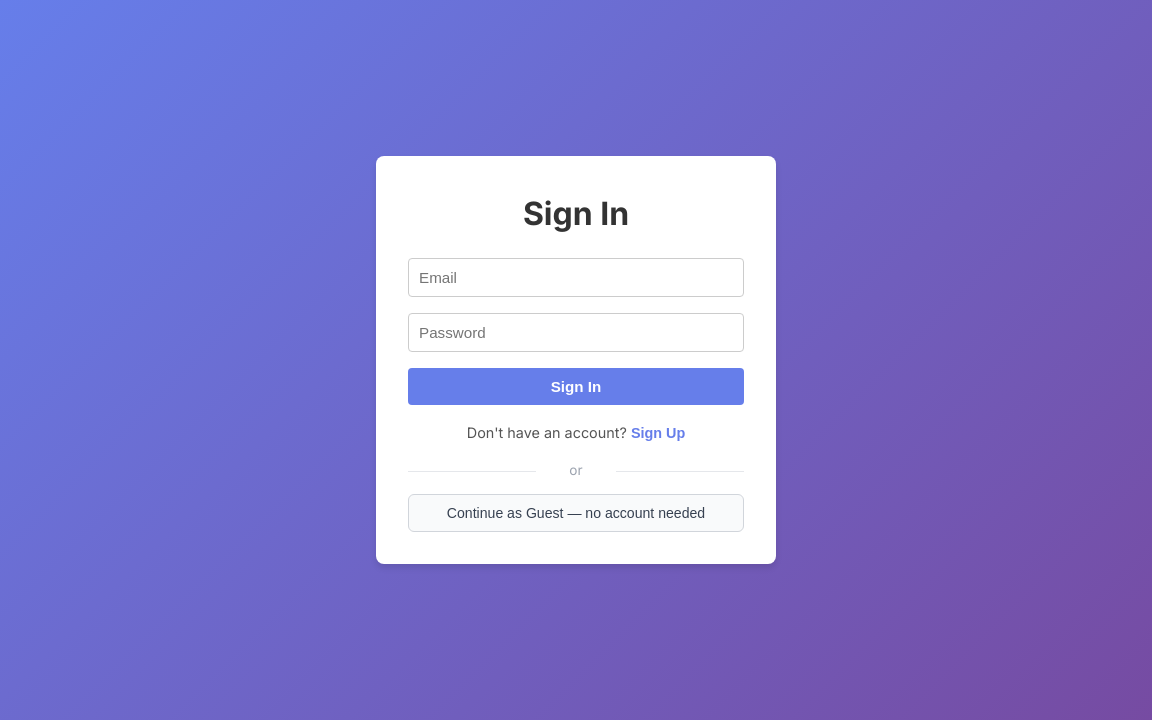
Test: AuthPage – Sign In mode (default) › shows error on failed login
In the field with placeholder "Email": (576, 278) [408,258,744,297], type "bad@bad.com"
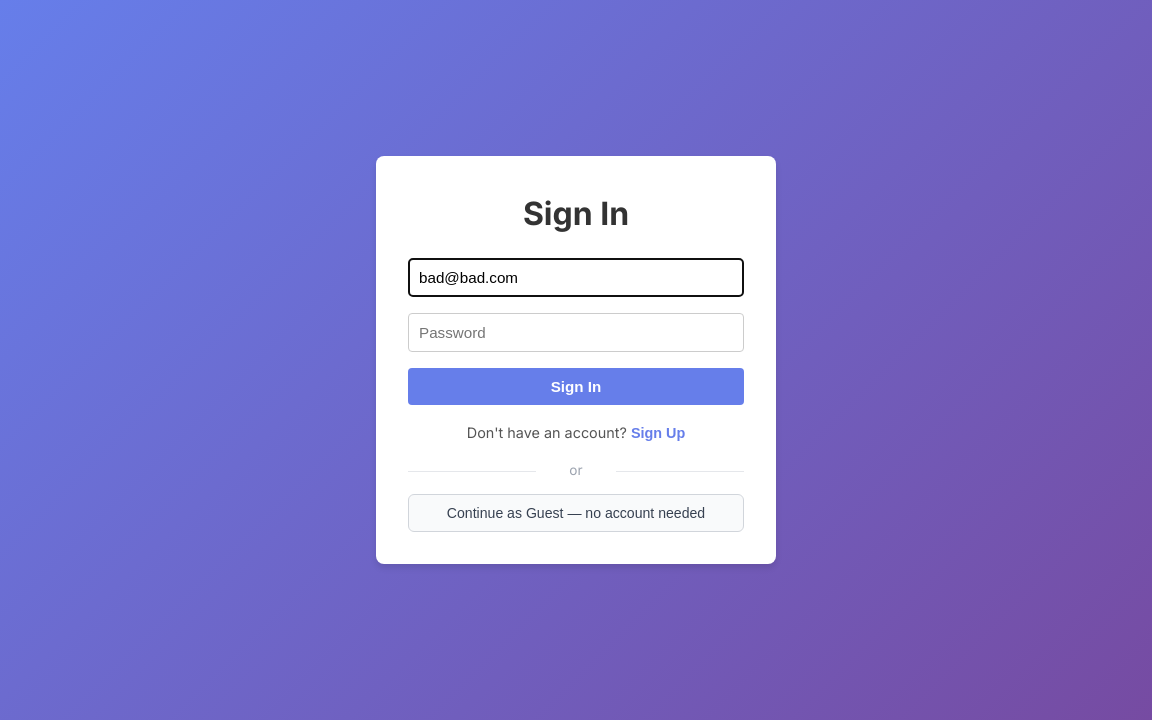
In the password field with placeholder "Password": (576, 333) [408,313,744,352], type "wrongpass"
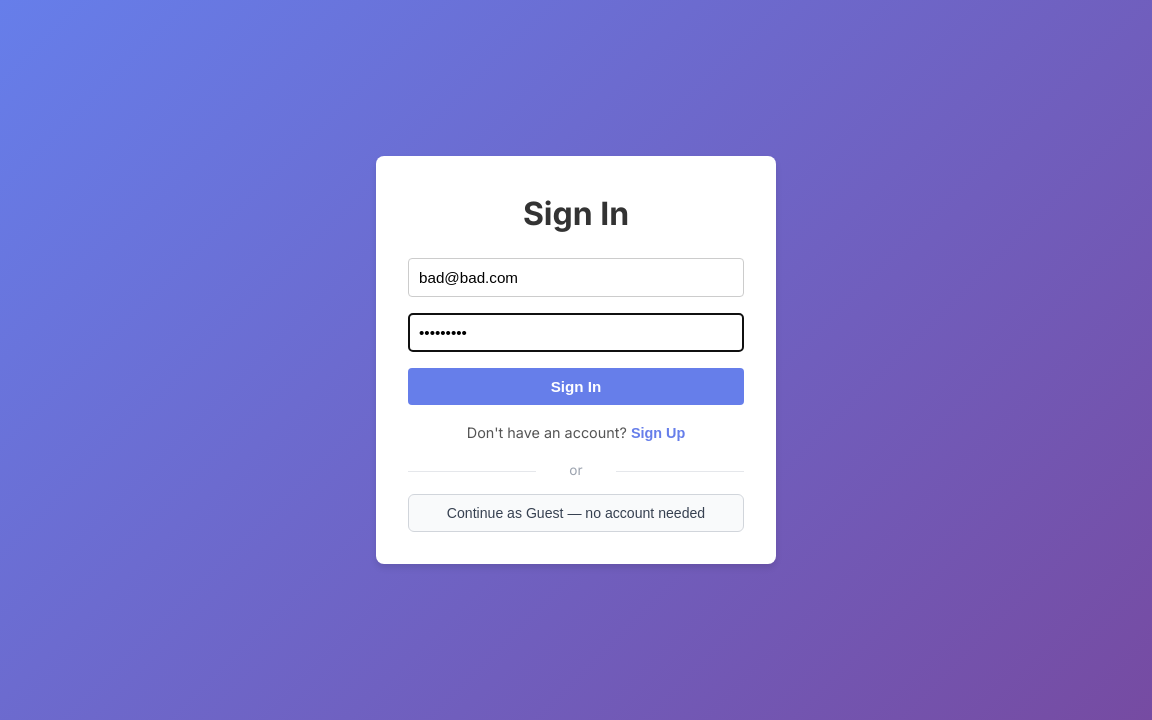
Click the button "Sign In": (576, 387) [408,368,744,405]
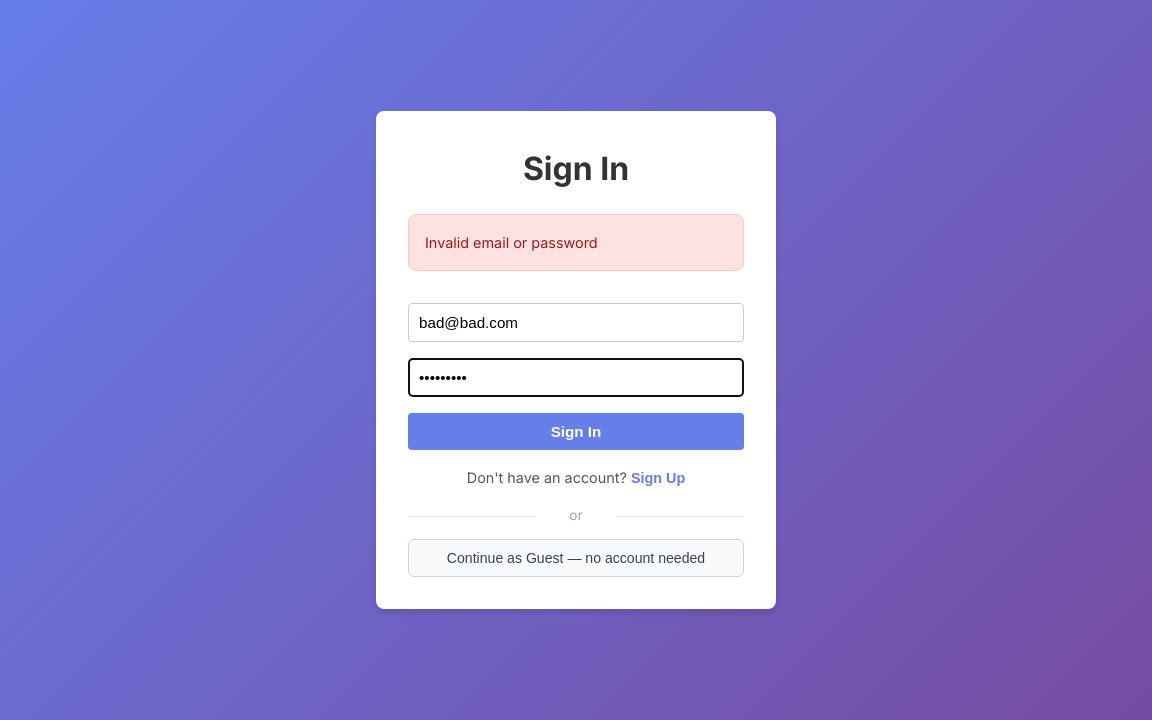
Result: the text "Invalid email or password" is shown at [408,214,744,271]
